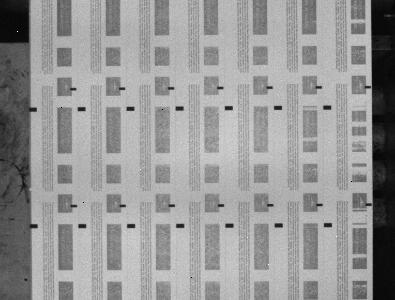backgroundclutter: (24, 278, 28, 281)
qblock: (176, 223, 185, 228), (126, 106, 135, 111), (323, 105, 332, 110), (29, 107, 37, 112), (274, 105, 282, 110), (225, 224, 234, 228), (77, 107, 86, 111), (30, 224, 38, 228), (127, 224, 135, 228), (78, 224, 86, 228), (275, 223, 283, 227), (225, 106, 233, 110), (324, 223, 332, 227), (176, 106, 184, 110)
smallqblock: (267, 203, 274, 207), (70, 204, 77, 207), (119, 204, 126, 207), (168, 204, 175, 207), (218, 204, 225, 207), (316, 203, 323, 206), (217, 86, 224, 89), (168, 87, 175, 90), (266, 86, 273, 89), (70, 87, 76, 90), (366, 203, 372, 206), (119, 87, 125, 90), (316, 86, 322, 89), (365, 85, 371, 88)
